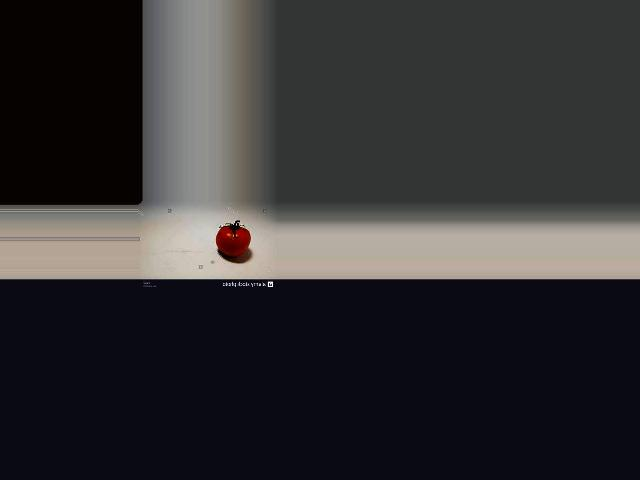tomato: (215, 226, 249, 257)
